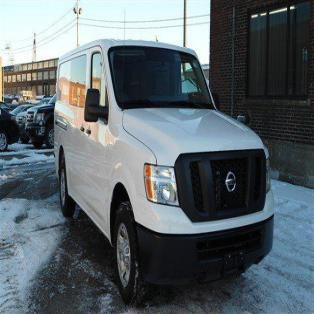Auto: (53, 38, 275, 307)
